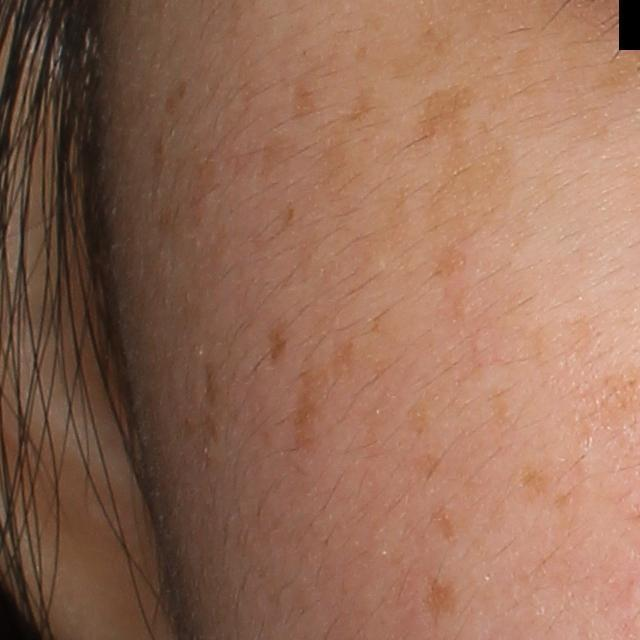melasma: (425, 121, 521, 249), (295, 332, 366, 452), (406, 82, 476, 157), (387, 25, 460, 90), (419, 570, 460, 631), (254, 136, 300, 183), (513, 459, 554, 507), (283, 77, 322, 124), (430, 501, 464, 551), (429, 241, 472, 280), (402, 388, 432, 438), (407, 450, 445, 483), (265, 322, 292, 368), (163, 78, 191, 115)
